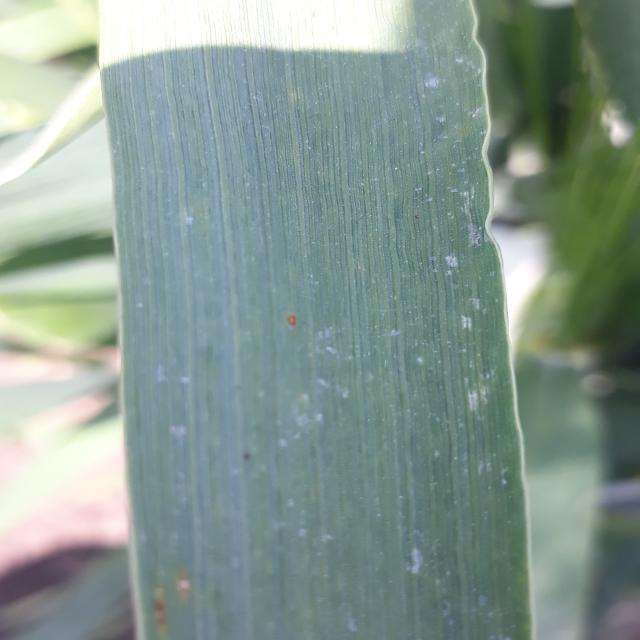orang_rust: (120, 513, 298, 640), (258, 289, 344, 356)
